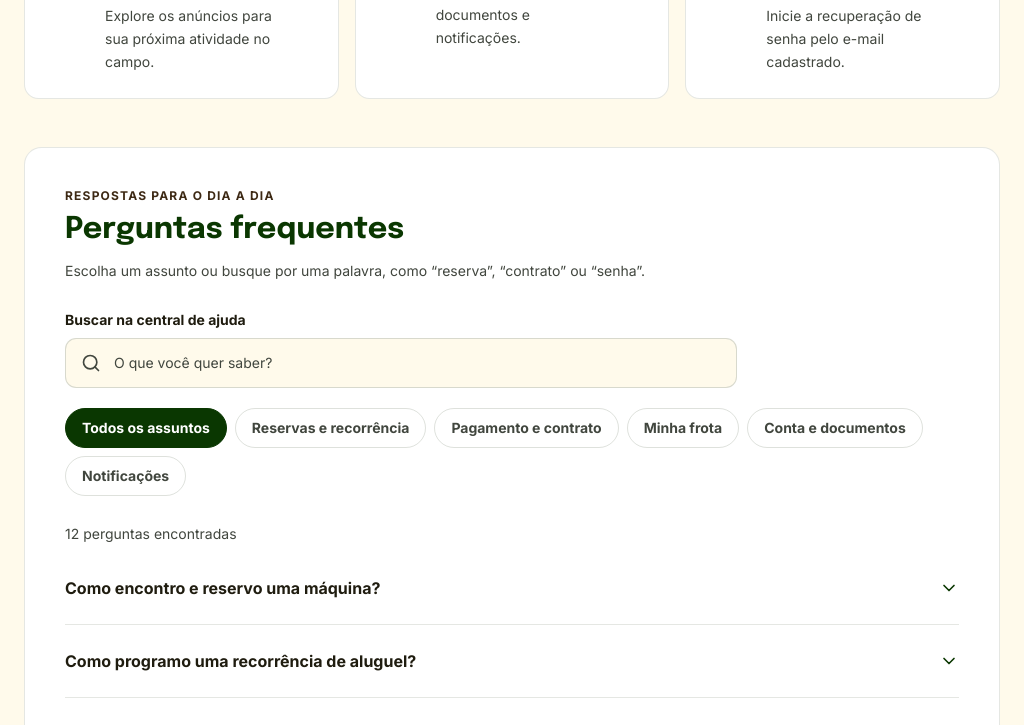
Test case: searches help topics ignoring accents and case
(page scrolled)
In the search field labelled "Buscar na central de ajuda": coordinates (401, 364) [65,338,737,388], type "RECORRENCIA"
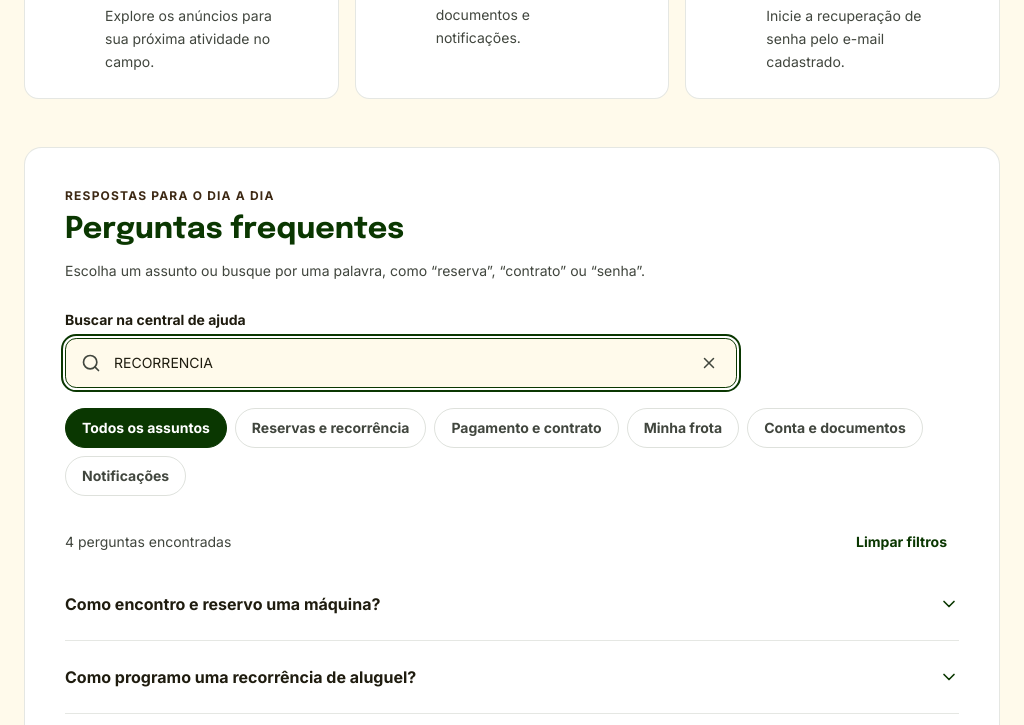
expect the message reads "4 perguntas encontradas": met, box [65,534,231,550]
expect the heading "Como programo uma recorrência de aluguel?" is shown: met, box [65,668,959,688]
Click the button named "Limpar busca": coordinates (709, 364) [689,344,729,384]
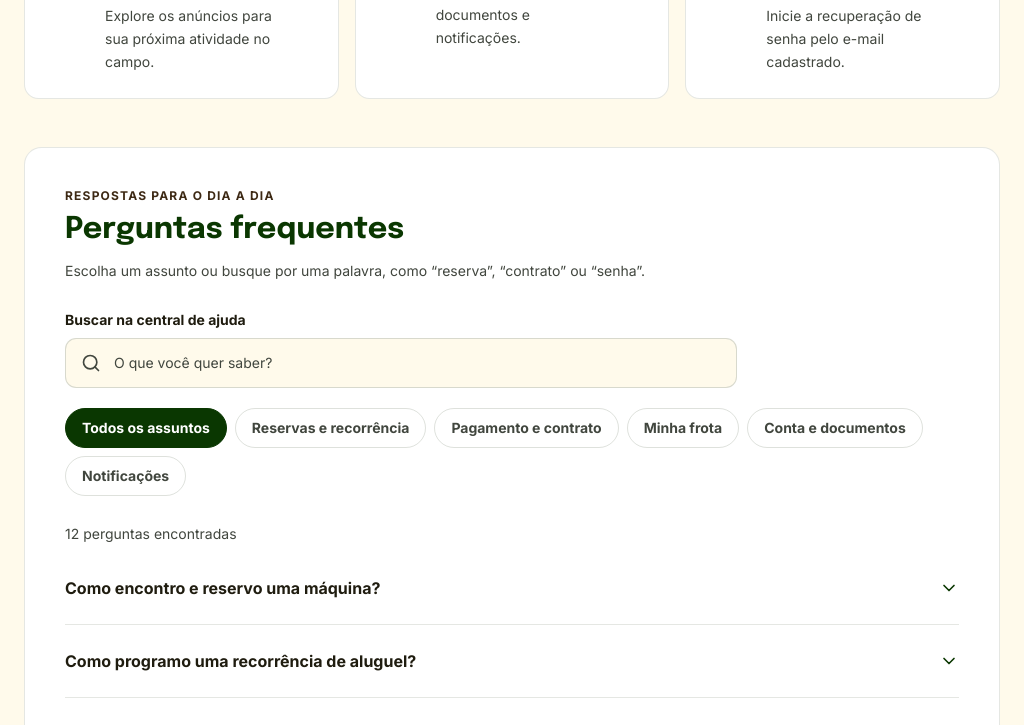
expect the search field labelled "Buscar na central de ajuda" is empty: met, box [65,338,737,388]
